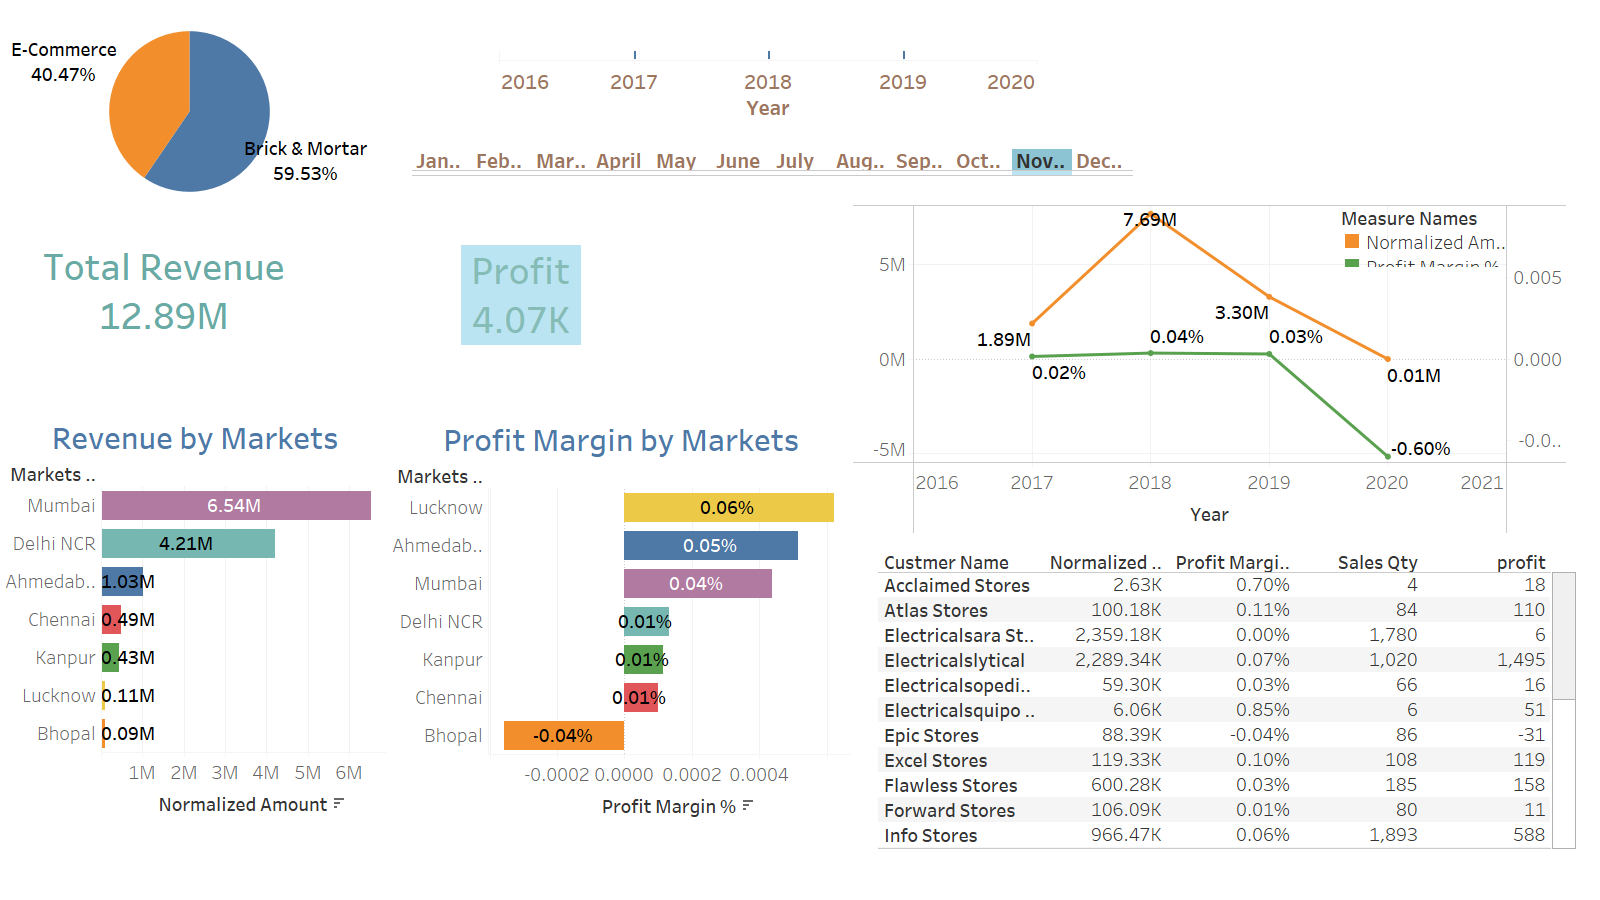

The page's visual inventory and layout, read from the dashboard file:
{"tool":"tableau","page":{"name":"Dashboard - Profit Analysis","canvas":[1600,900],"ordinal":0},"visuals":[{"type":"worksheet","title":"Pie Chart","mark":"Pie","box":[11,12,357,184]},{"type":"worksheet","title":"Year","mark":"Automatic","cols":["year"],"box":[499,35,538,85]},{"type":"worksheet","title":"Month","mark":"Automatic","cols":["month_name"],"box":[412,134,722,69]},{"type":"worksheet","title":"Profit Trend","mark":"Automatic","rows":["Calculation_1247215647217033216","Calculation_1247215647266312201"],"cols":["year"],"box":[853,190,714,344]},{"type":"legend","title":"Profit Trend","param":"[federated.18evcf814rdjqm19lbimd0k06dk7].[:Measure Names]","box":[1340,203,168,64]},{"type":"worksheet","title":"Revenue","mark":"Automatic","box":[34,226,300,172]},{"type":"worksheet","title":"Profit","mark":"Automatic","box":[461,230,243,147]},{"type":"worksheet","title":"Revenue by Markets","mark":"Automatic","rows":["markets_name"],"cols":["Calculation_1247215647217033216"],"box":[5,410,380,430]},{"type":"worksheet","title":"Profit Margin by Markets","mark":"Automatic","rows":["markets_name"],"cols":["Calculation_1247215647266312201"],"box":[392,412,458,415]},{"type":"worksheet","title":"Customer Table","mark":"Automatic","rows":["custmer_name"],"box":[878,537,698,312]}]}

Visuals, with their boxes in screenshot pixels (x1, y1, x2, y2), scaled from the page's 1600x900 canvas onto the 1600x900 screenshot:
"Pie Chart" worksheet (Pie marks): Rect(11, 12, 368, 196)
"Year" worksheet: Rect(499, 35, 1037, 120)
"Month" worksheet: Rect(412, 134, 1134, 203)
"Profit Trend" worksheet: Rect(853, 190, 1567, 534)
"Profit Trend" legend: Rect(1340, 203, 1508, 267)
"Revenue" worksheet: Rect(34, 226, 334, 398)
"Profit" worksheet: Rect(461, 230, 704, 377)
"Revenue by Markets" worksheet: Rect(5, 410, 385, 840)
"Profit Margin by Markets" worksheet: Rect(392, 412, 850, 827)
"Customer Table" worksheet: Rect(878, 537, 1576, 849)
